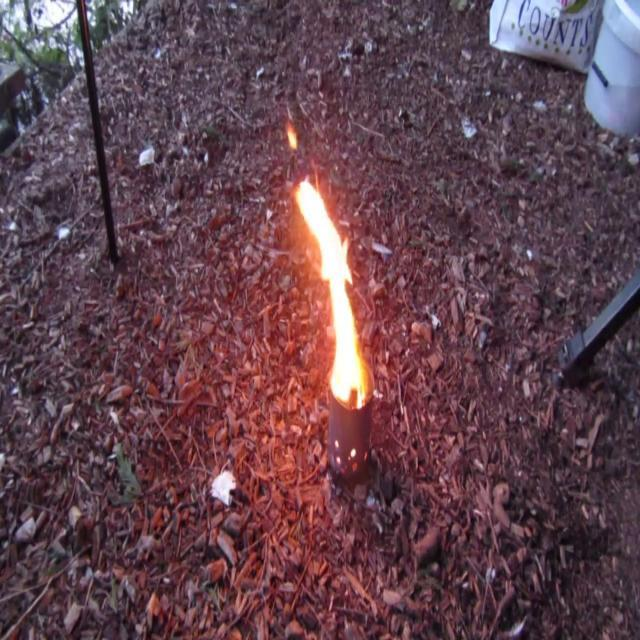Fire: (292, 165, 368, 401)
